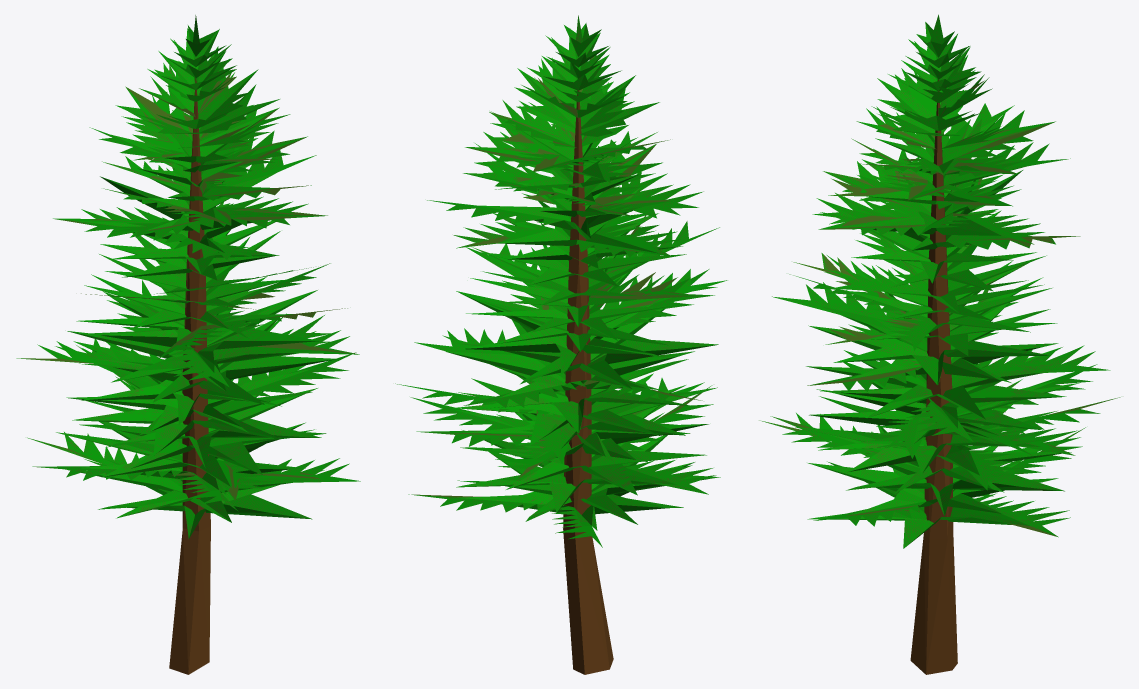
File: tree.dae
3 renders of one model, left to right at view 1: azimuth 30°, elevation 25°; view 2: azimuth 150°, elevation 25°; view 3: azimuth 270°, elevation 25°, orthographic.
Visible parts, largest first — view 1: instance_1 (×33), group_0; view 2: instance_1 (×33), group_0; view 3: instance_1 (×32), group_0.
Part boxes in pixels (left/top/right/bottom): instance_1 (×33): left=16, top=28, right=360, bottom=538; group_0: left=169, top=78, right=210, bottom=674; instance_1 (×33): left=395, top=28, right=727, bottom=547; group_0: left=563, top=90, right=613, bottom=674; instance_1 (×32): left=759, top=34, right=1120, bottom=548; group_0: left=910, top=79, right=957, bottom=674.
Size of the model in its own units: 80.53 by 83.31 by 164.
